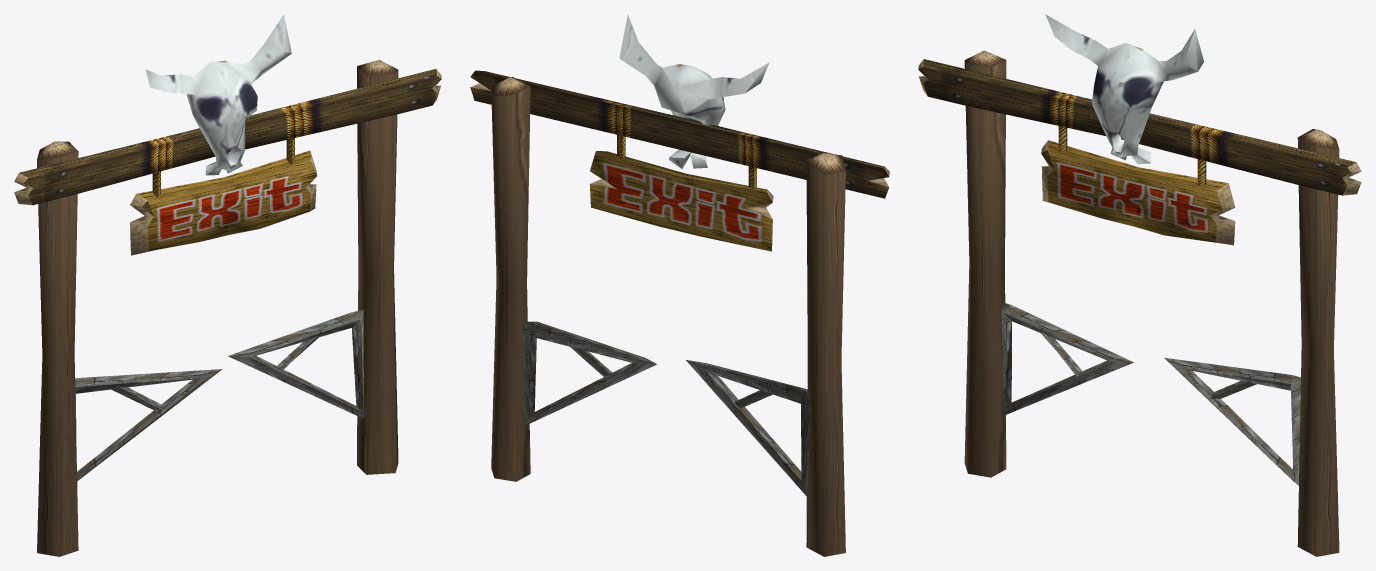
The model's file is gate_dream_sandy.obj.
The picture shows the model from 3 angles, left to right: view 1: azimuth 30°, elevation 25°; view 2: azimuth 150°, elevation 25°; view 3: azimuth 330°, elevation 25°; orthographic projection. The views are drawn at different scales.
Parts seen in each view (by area): view 1: mesh0; view 2: mesh0; view 3: mesh0.
Boxes of the visible parts, bbox=[...] form: mesh0: bbox=[14, 14, 441, 556]; mesh0: bbox=[470, 14, 889, 556]; mesh0: bbox=[918, 14, 1361, 556].
Bounding box in the file's own units: 6.18 × 6.73 × 0.9699.
Materials: 1 (1 with a texture image).
